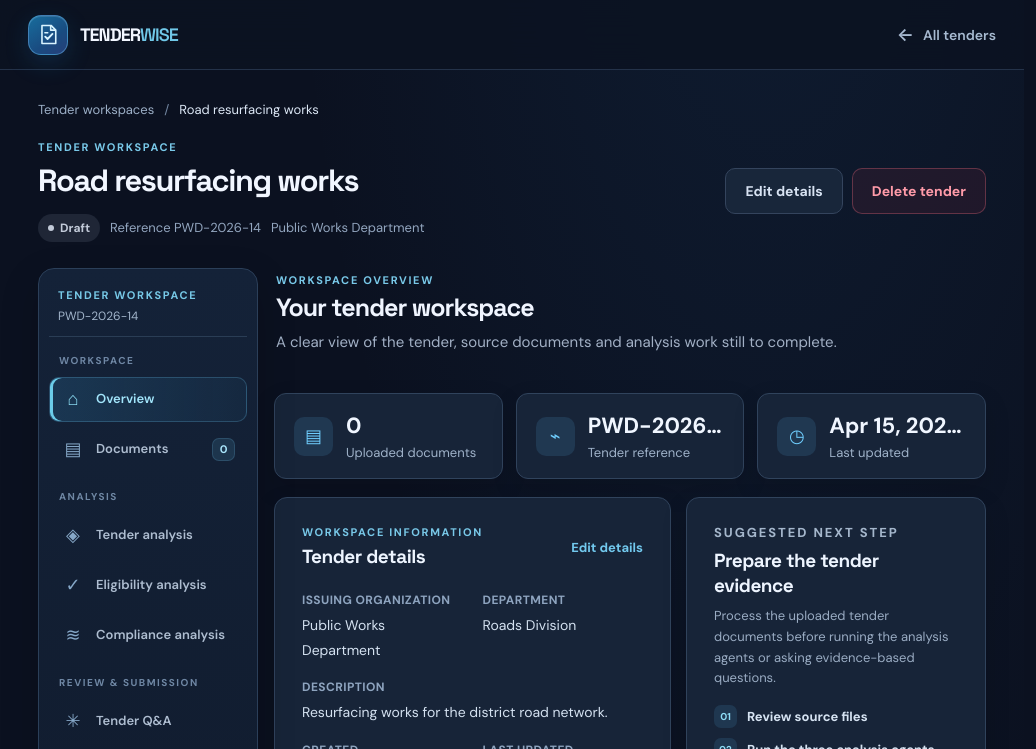
it: TenderWise dashboard and workspace › opens each analysis and Q&A in its own deep-linkable workspace view
Check: the heading "Road resurfacing works" is shown, box 38,161 -> 358,200
What coordinates should you click on to do the following:
click the button "◈ Tender analysis"
I would click on:
 (148, 535)
Its box is 49,513 -> 247,558.
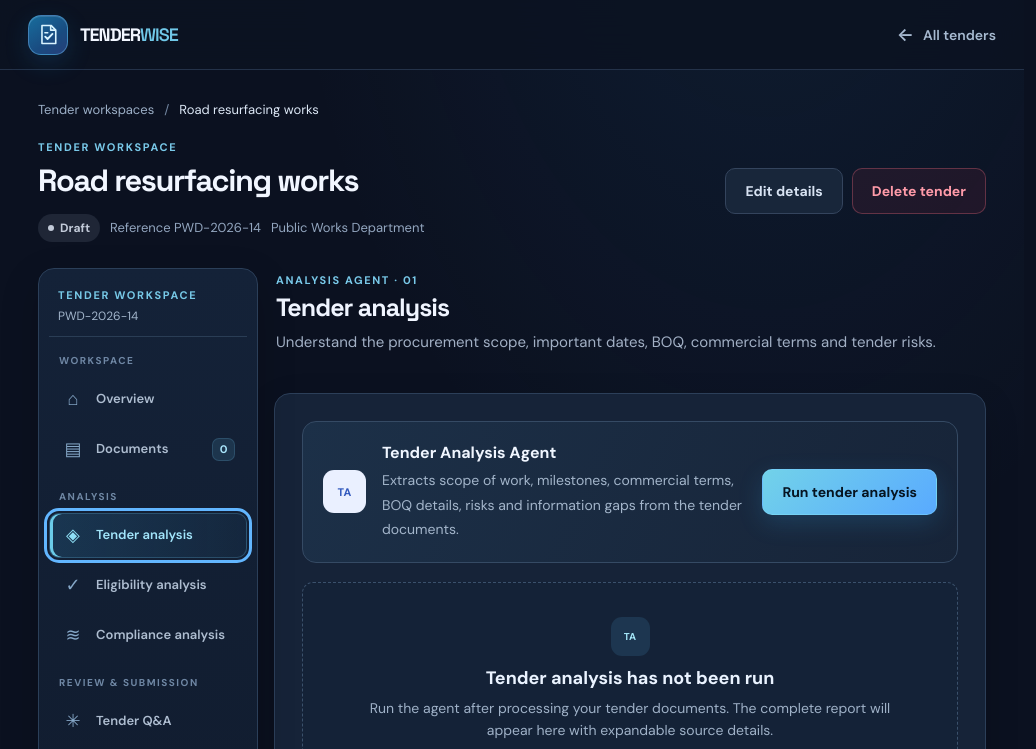
Check: the heading "Tender analysis" is shown, box 276,291 -> 449,323
What coordinates should you click on to do the following:
click the button "✓ Eligibility analysis"
I would click on:
 (148, 585)
Its box is 49,563 -> 247,608.
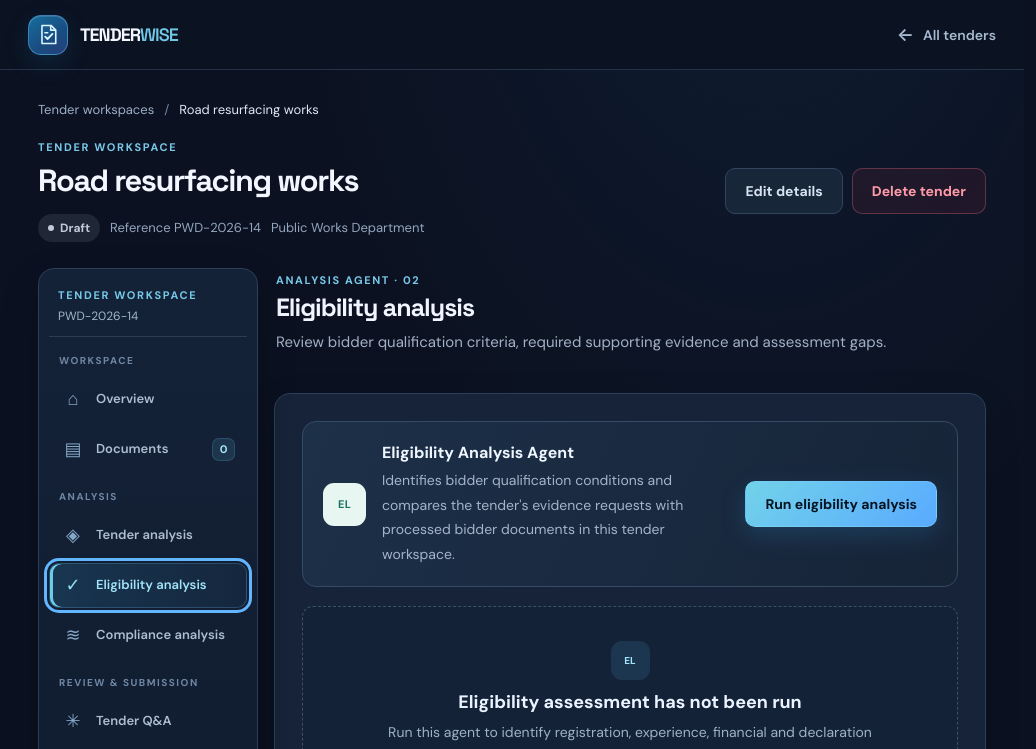
Check: the heading "Eligibility analysis" is shown, box 276,291 -> 474,323
What coordinates should you click on to do the following:
click the button "≋ Compliance analysis"
I would click on:
 (148, 635)
Its box is 49,613 -> 247,658.
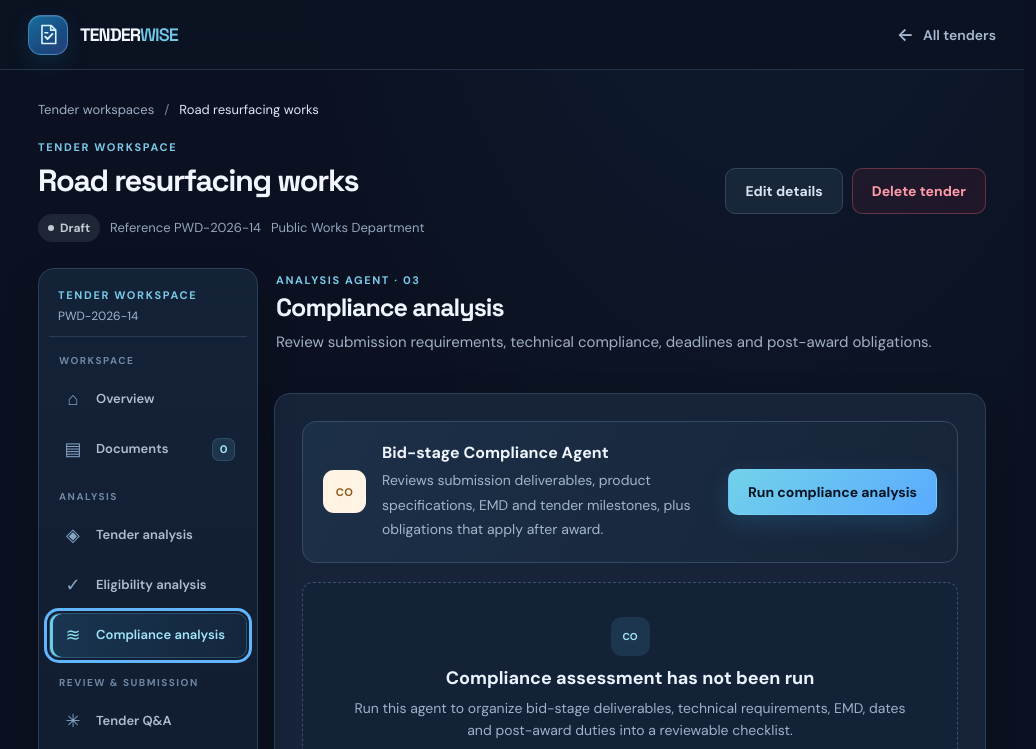
Check: the heading "Compliance analysis" is shown, box 276,291 -> 504,323
What coordinates should you click on to do the following:
click the button "✳ Tender Q&A"
I would click on:
 (148, 721)
Its box is 49,699 -> 247,744.
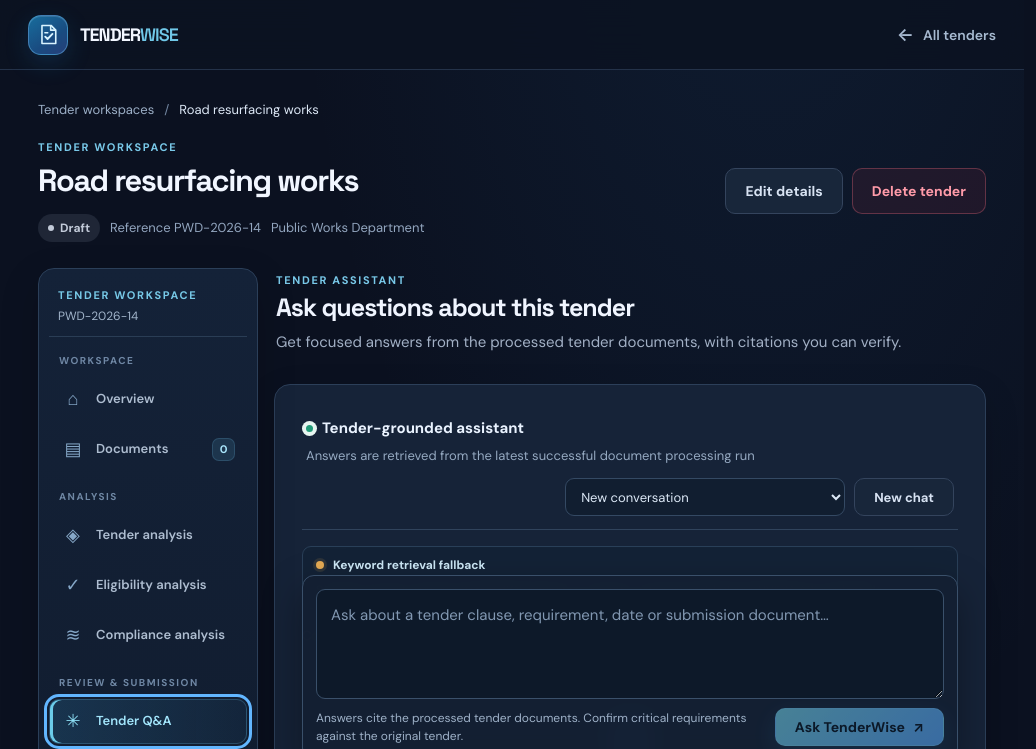
Check: the heading "Ask questions about this tender" is shown, box 276,291 -> 634,323
